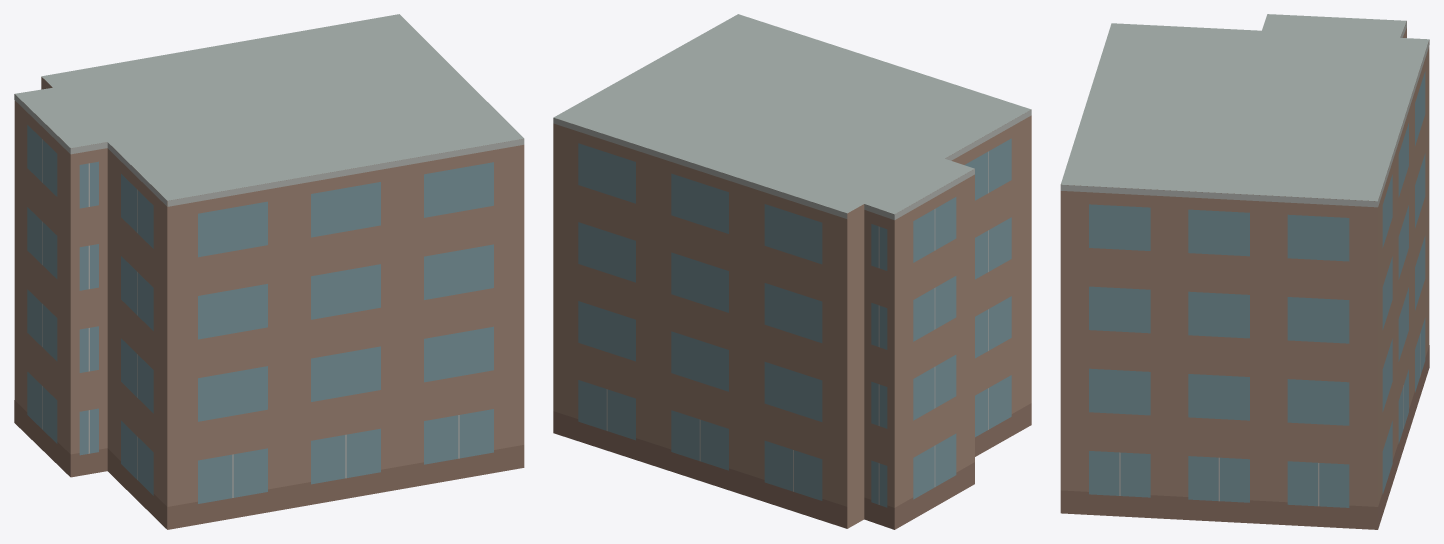
The model's file is survey-upis-32949774.glb.
The picture shows the model from 3 angles, left to right: view 1: azimuth 30°, elevation 25°; view 2: azimuth 150°, elevation 25°; view 3: azimuth 270°, elevation 25°; orthographic projection. The views are drawn at different scales.
Parts seen in each view (by area): view 1: survey-upis-32949774.tmp; view 2: survey-upis-32949774.tmp; view 3: survey-upis-32949774.tmp.
Part boxes in pixels (box(x1,y1,x2,y2)): survey-upis-32949774.tmp: box(14, 14, 524, 529); survey-upis-32949774.tmp: box(553, 14, 1031, 529); survey-upis-32949774.tmp: box(1060, 14, 1429, 529).
Bounding box in the file's own units: 16.08 × 13.15 × 13.38.
